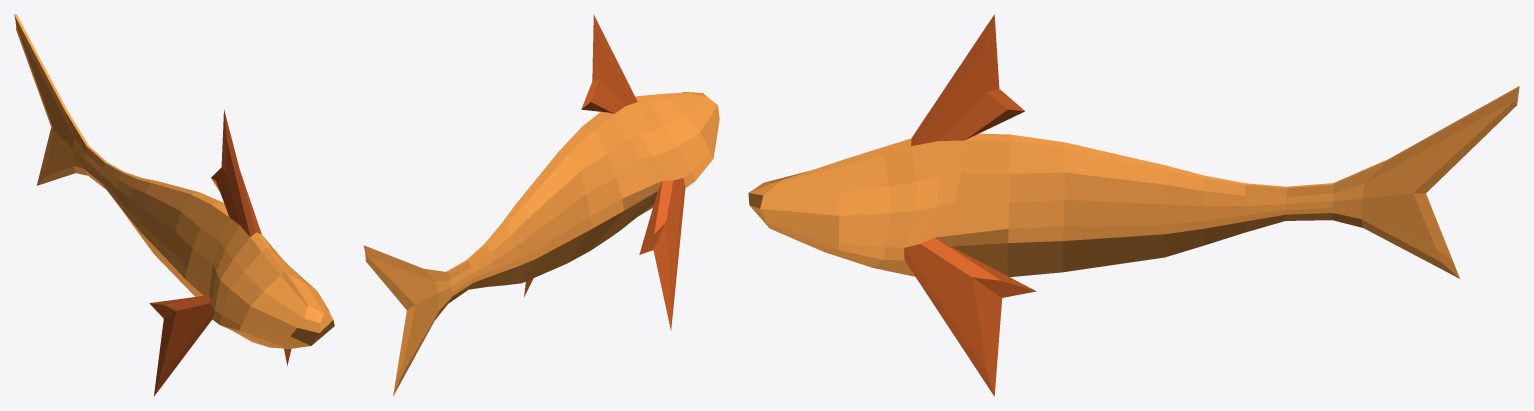
Rendered from fish_lp_5.fbx.
3 views of the same model, side by side, from view 1: azimuth 30°, elevation 25°; view 2: azimuth 150°, elevation 25°; view 3: azimuth 270°, elevation 25° (orthographic). The views are drawn at different scales.
Visible parts, largest first — view 1: Fish; view 2: Fish; view 3: Fish.
Boxes of the visible parts, <box> form: Fish: <box>14,14,334,396</box>; Fish: <box>363,14,719,396</box>; Fish: <box>748,14,1519,396</box>.
Bounding box in the file's own units: 56.72 × 111 × 225.
